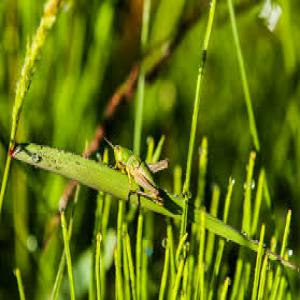locust: (109, 135, 179, 200)
